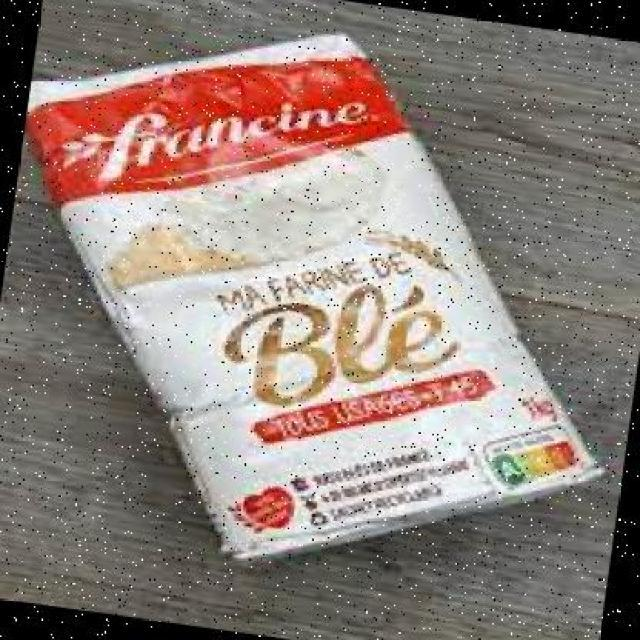gunny_bag: (23, 33, 613, 571)
